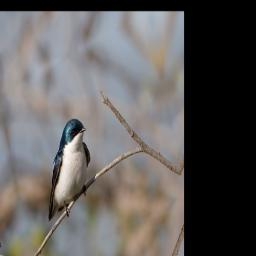Swallow: (33, 112, 99, 229)
